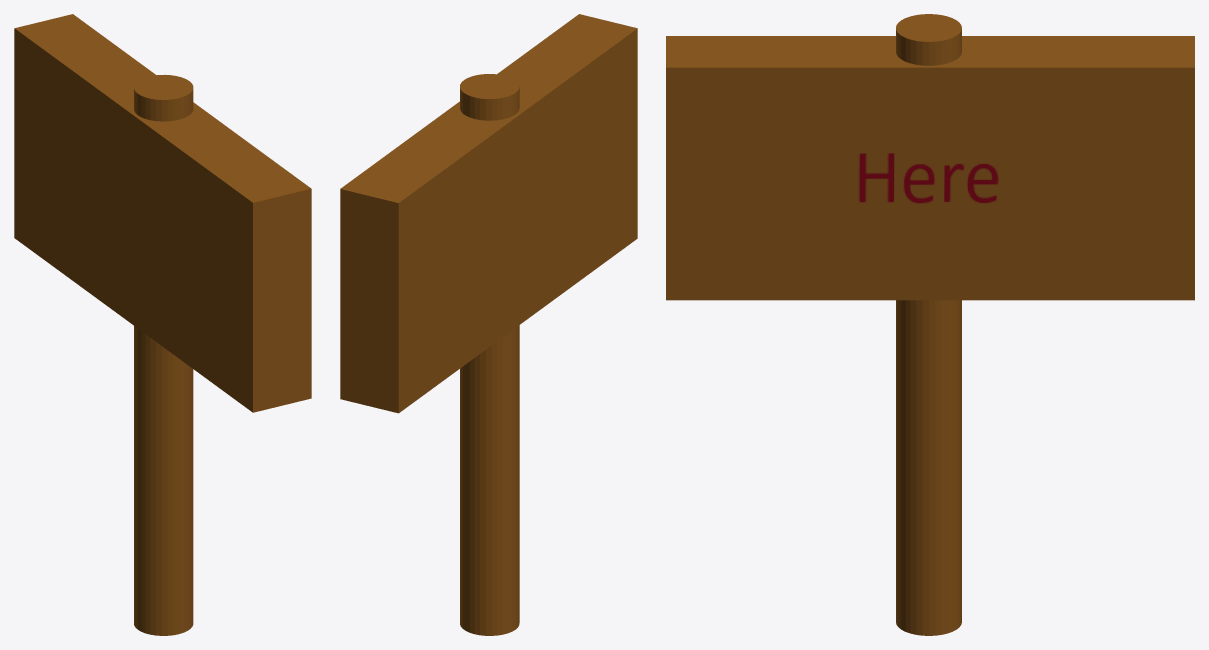
The model's file is signHere.fbx.
3 views of the same model, side by side, from view 1: azimuth 30°, elevation 25°; view 2: azimuth 150°, elevation 25°; view 3: azimuth 270°, elevation 25° (orthographic). The views are drawn at different scales.
Visible parts, largest first — view 1: Cube.005, Cylinder.005; view 2: Cube.005, Cylinder.005; view 3: Cube.005, Cylinder.005.
Part boxes in pixels (x1,y1,x2,y2): Cube.005: (14, 14, 311, 412); Cylinder.005: (134, 74, 193, 635); Cube.005: (340, 14, 637, 413); Cylinder.005: (460, 74, 519, 635); Cube.005: (666, 36, 1194, 300); Cylinder.005: (896, 14, 961, 635).
Size of the model in its own units: 4.12 by 0.5827 by 5.11.
2 materials, 1 textured.
